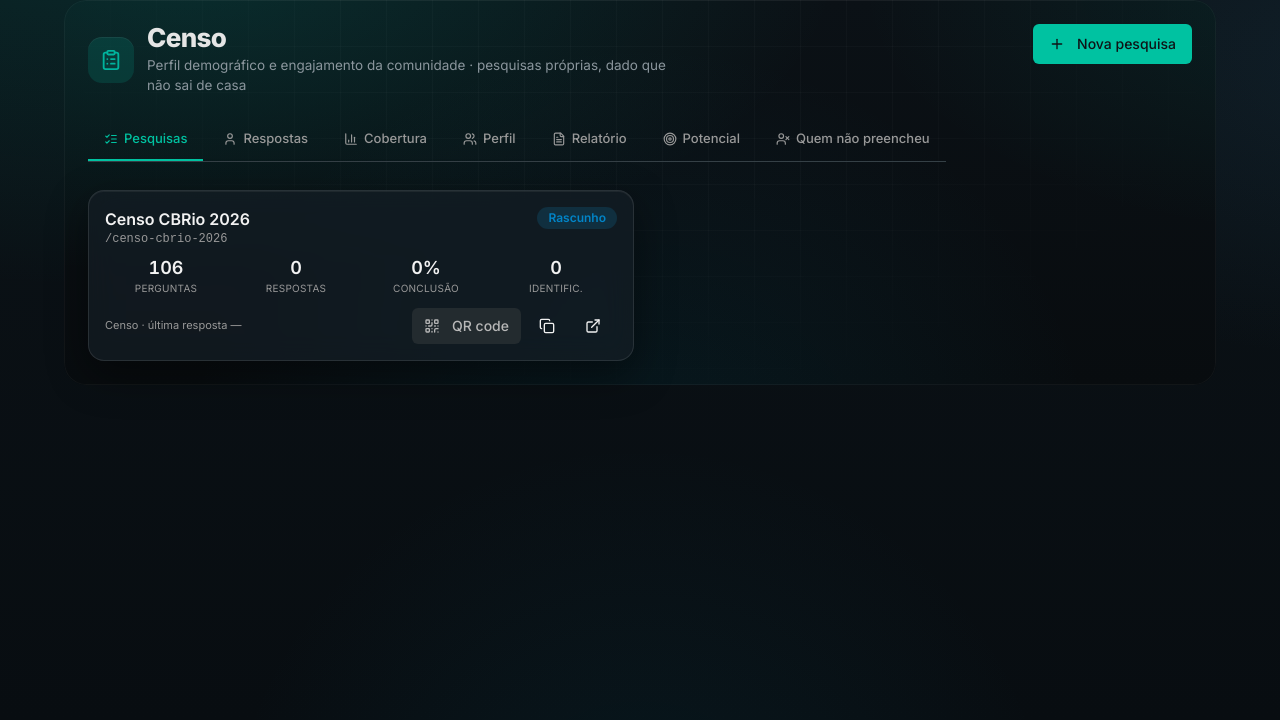
Test case: página /censo › Cobertura mostra o DENOMINADOR, não só a contagem
Expected: the heading "Censo CBRio 2026" is shown, [105,209,250,229]
Press the mouse on the tab "Cobertura" at (386, 140), box [328,119,443,161]
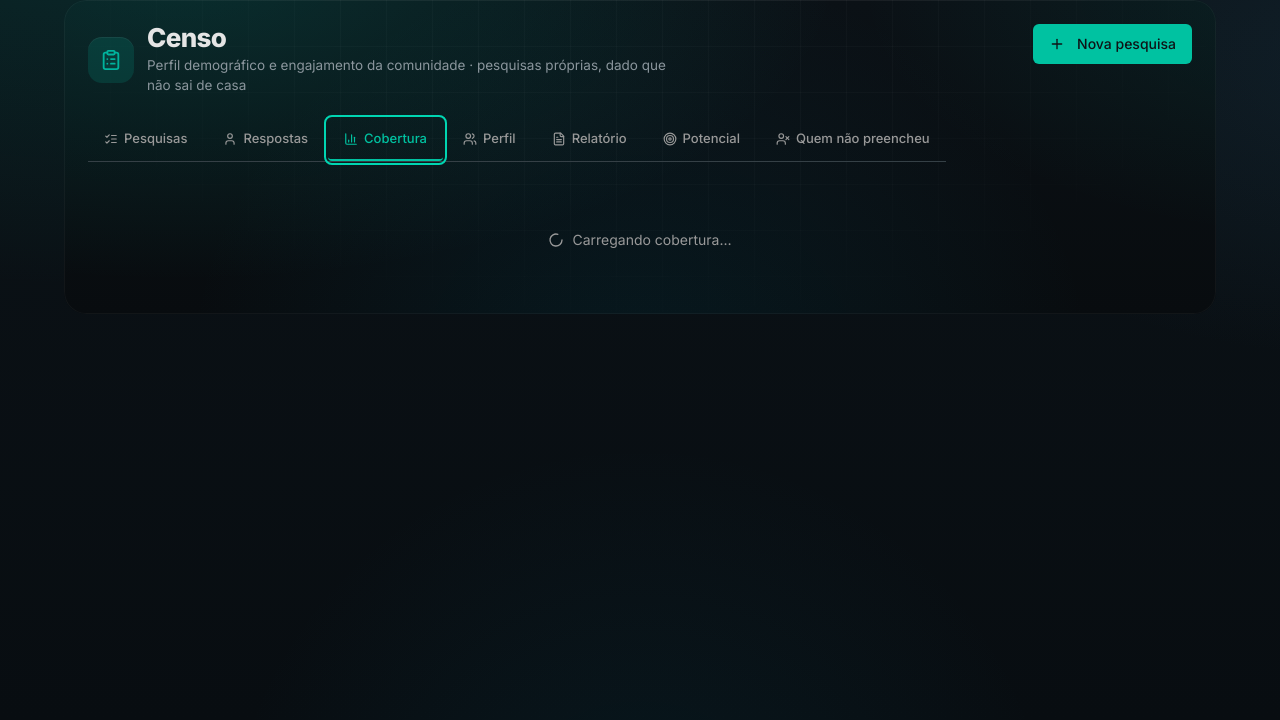
Click the tab "Cobertura" at (386, 140), box [328,119,443,161]
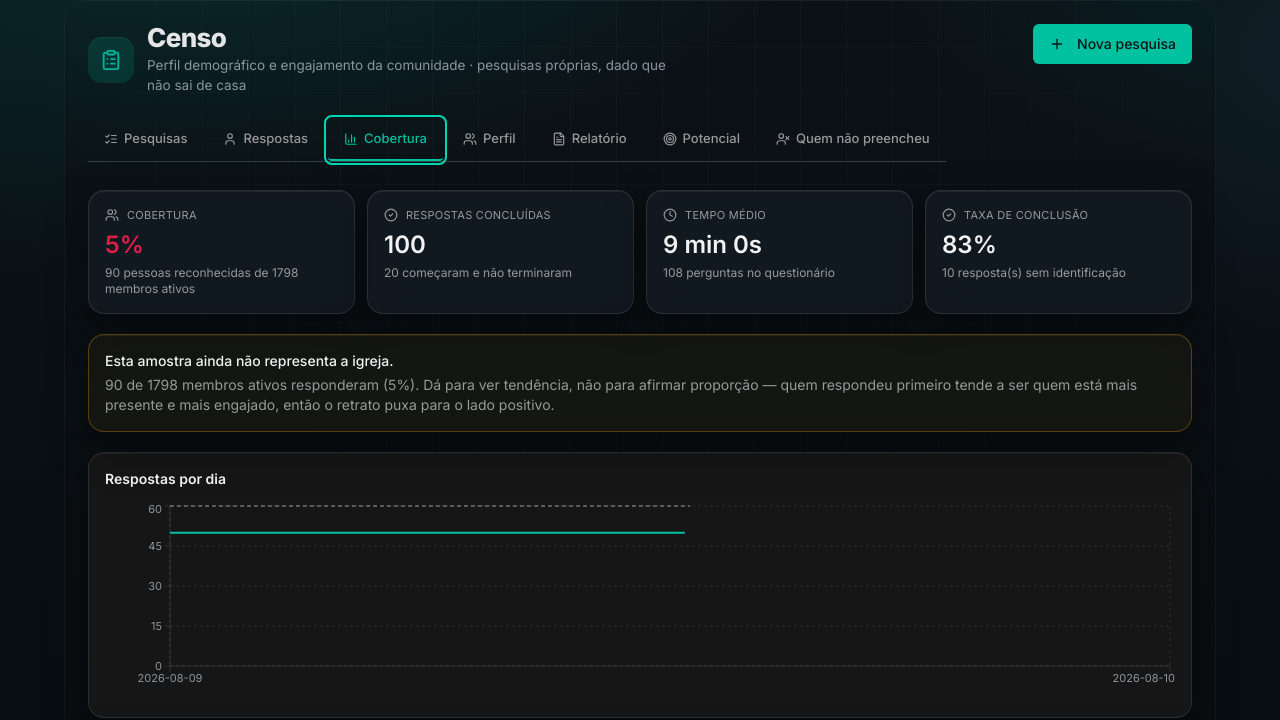
Expected: the text "90 pessoas reconhecidas de 1798 membros ativos" is shown, [105,265,298,296]
Expected: the text "5%" is shown, [105,230,144,259]
